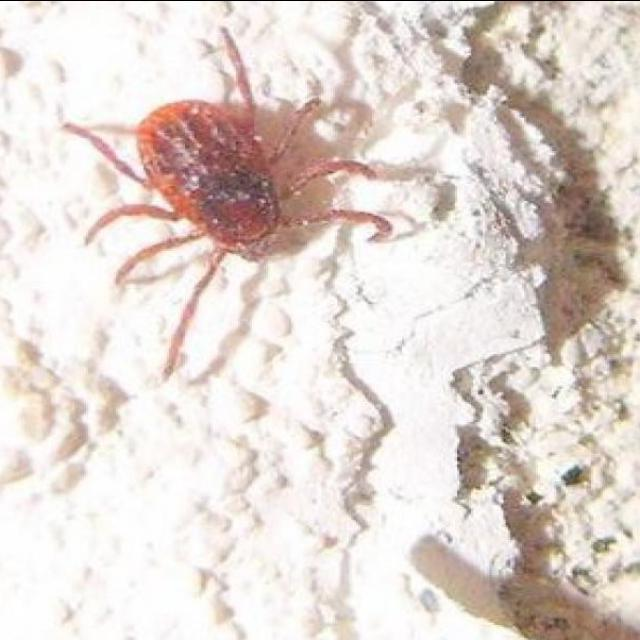Rhipicephalus Sanguineus-F: (63, 25, 427, 381)
